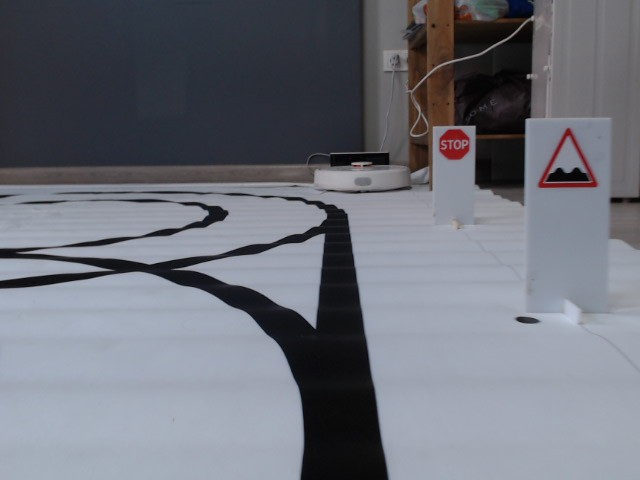Nerov: (536, 127, 598, 192)
Stop: (440, 129, 469, 159)
